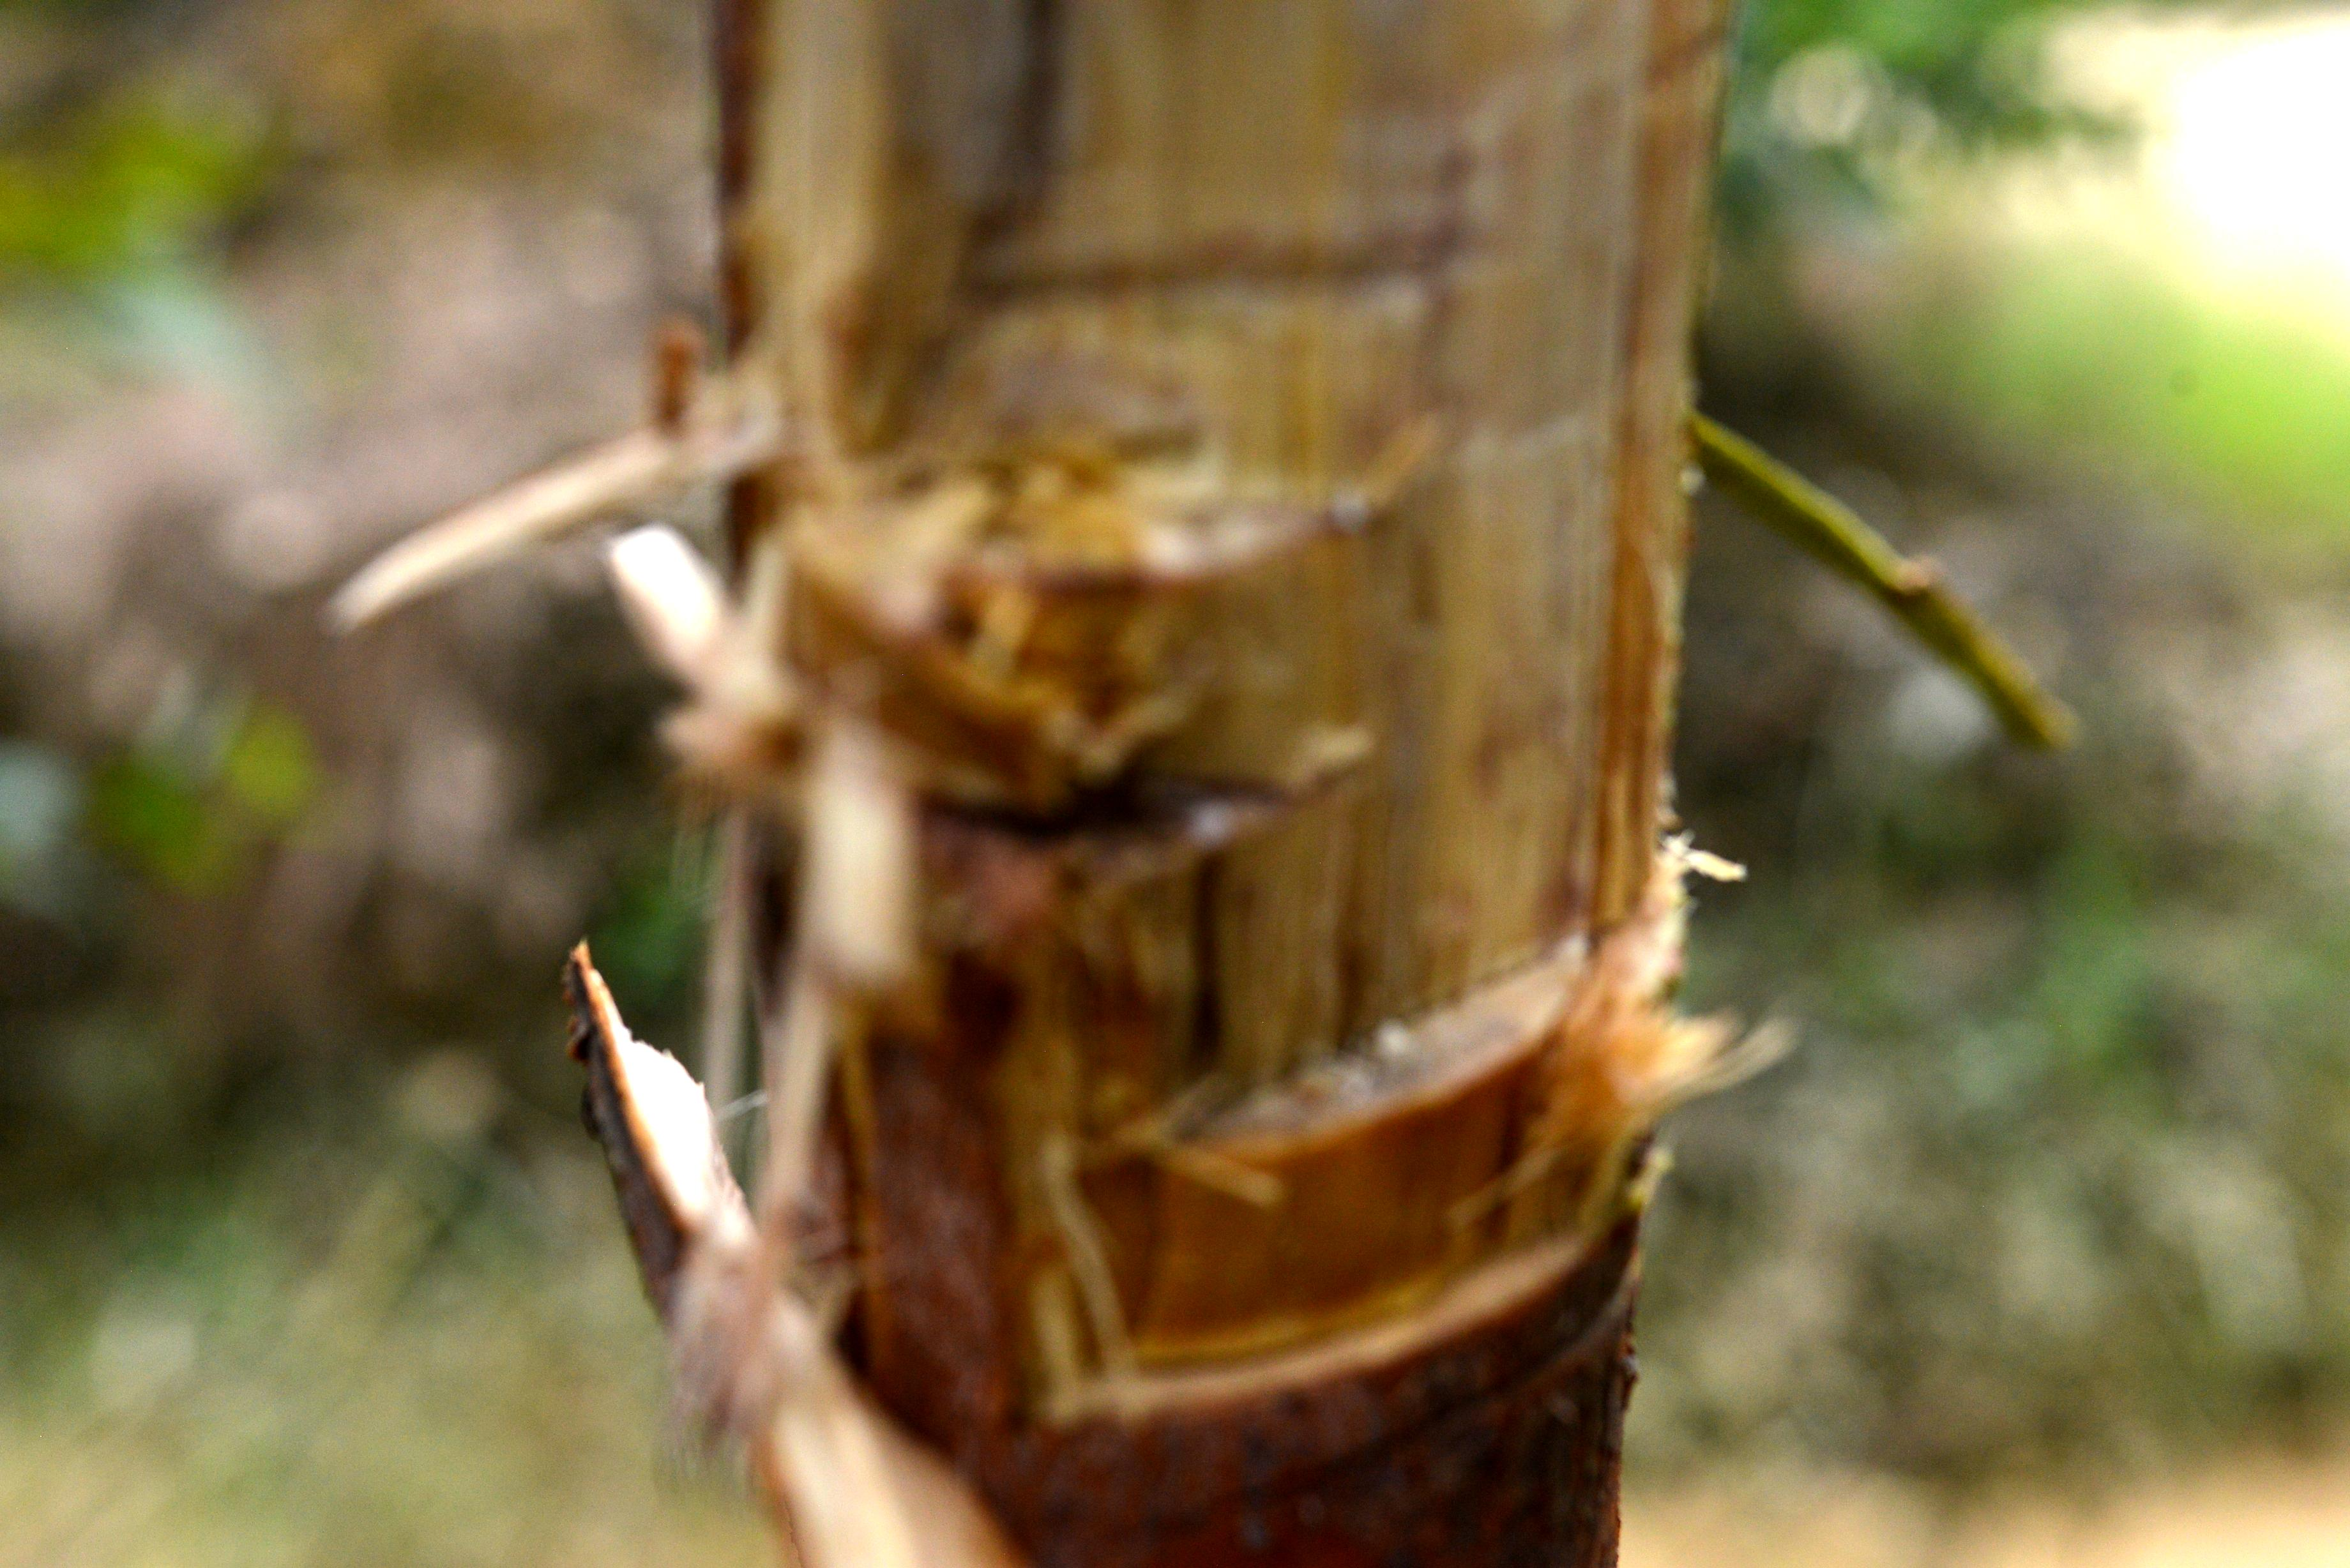Ralstonia: (859, 0, 1731, 1377)
